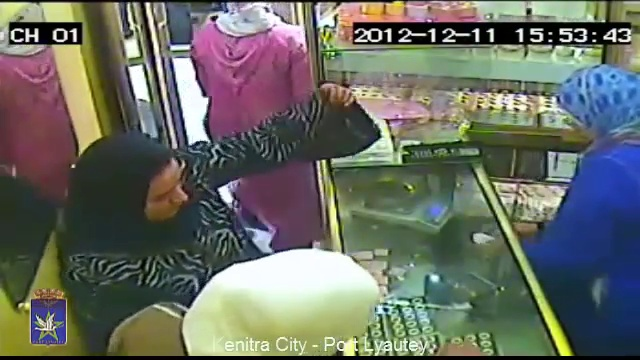face: (145, 171, 186, 218)
